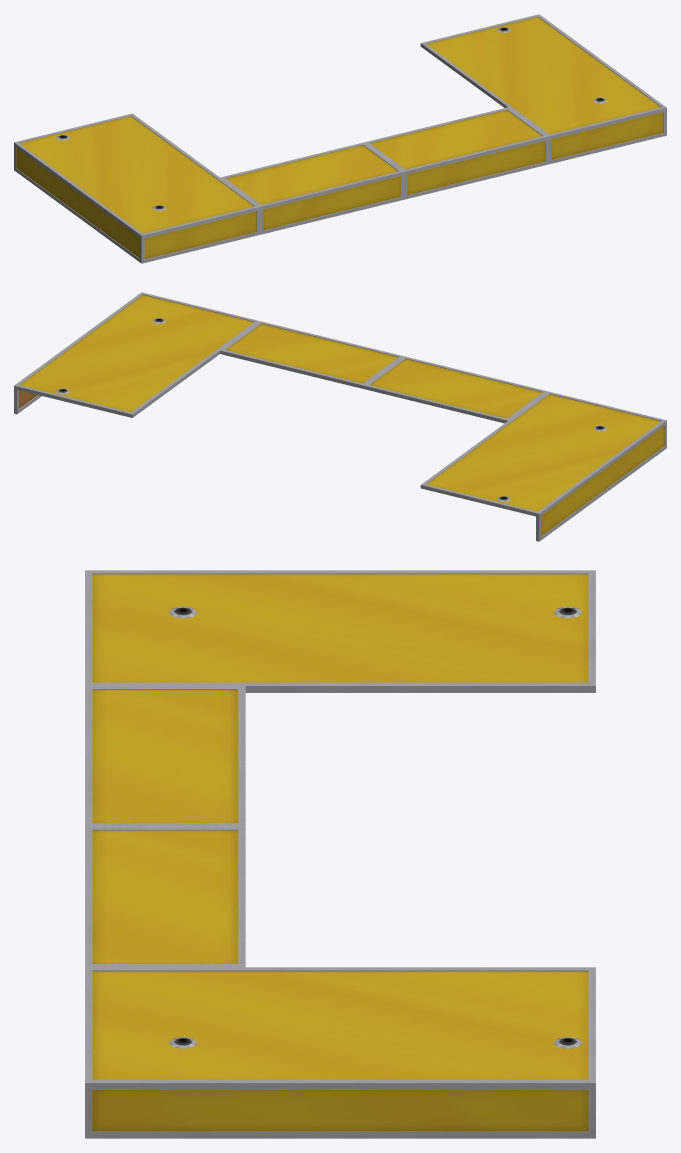
File: jsf_4P_s02_c03_t03_DX.fbx
3 views of the same model, one above another, from view 1: azimuth 30°, elevation 25°; view 2: azimuth 150°, elevation 25°; view 3: azimuth 270°, elevation 25° (orthographic). The views are drawn at different scales.
Parts seen in each view (by area): view 1: jsf_4P_s02_c03_t03_DX; view 2: jsf_4P_s02_c03_t03_DX; view 3: jsf_4P_s02_c03_t03_DX.
Boxes of the visible parts, x1,y1,x2,y2 form: jsf_4P_s02_c03_t03_DX: (14, 14, 666, 263); jsf_4P_s02_c03_t03_DX: (14, 292, 666, 541); jsf_4P_s02_c03_t03_DX: (85, 570, 595, 1138).
Bounding box in the file's own units: 246 × 12.99 × 104.
